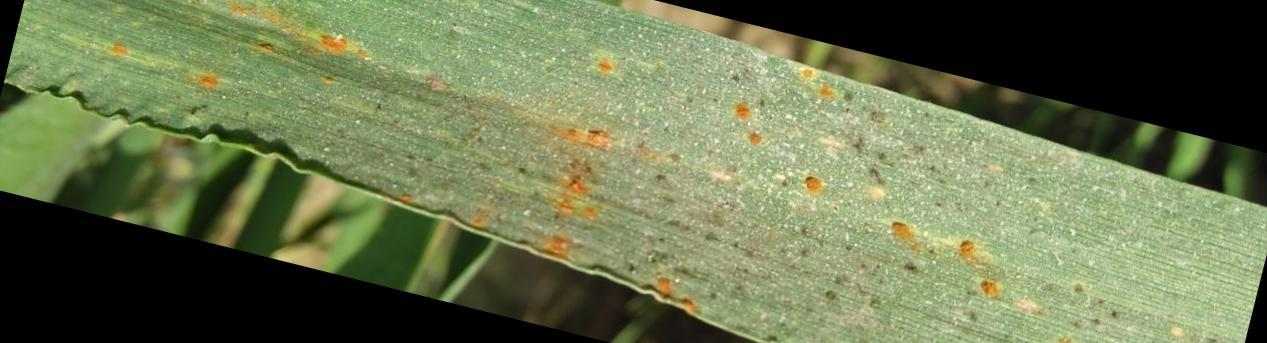Wheat: (100, 14, 658, 104)
